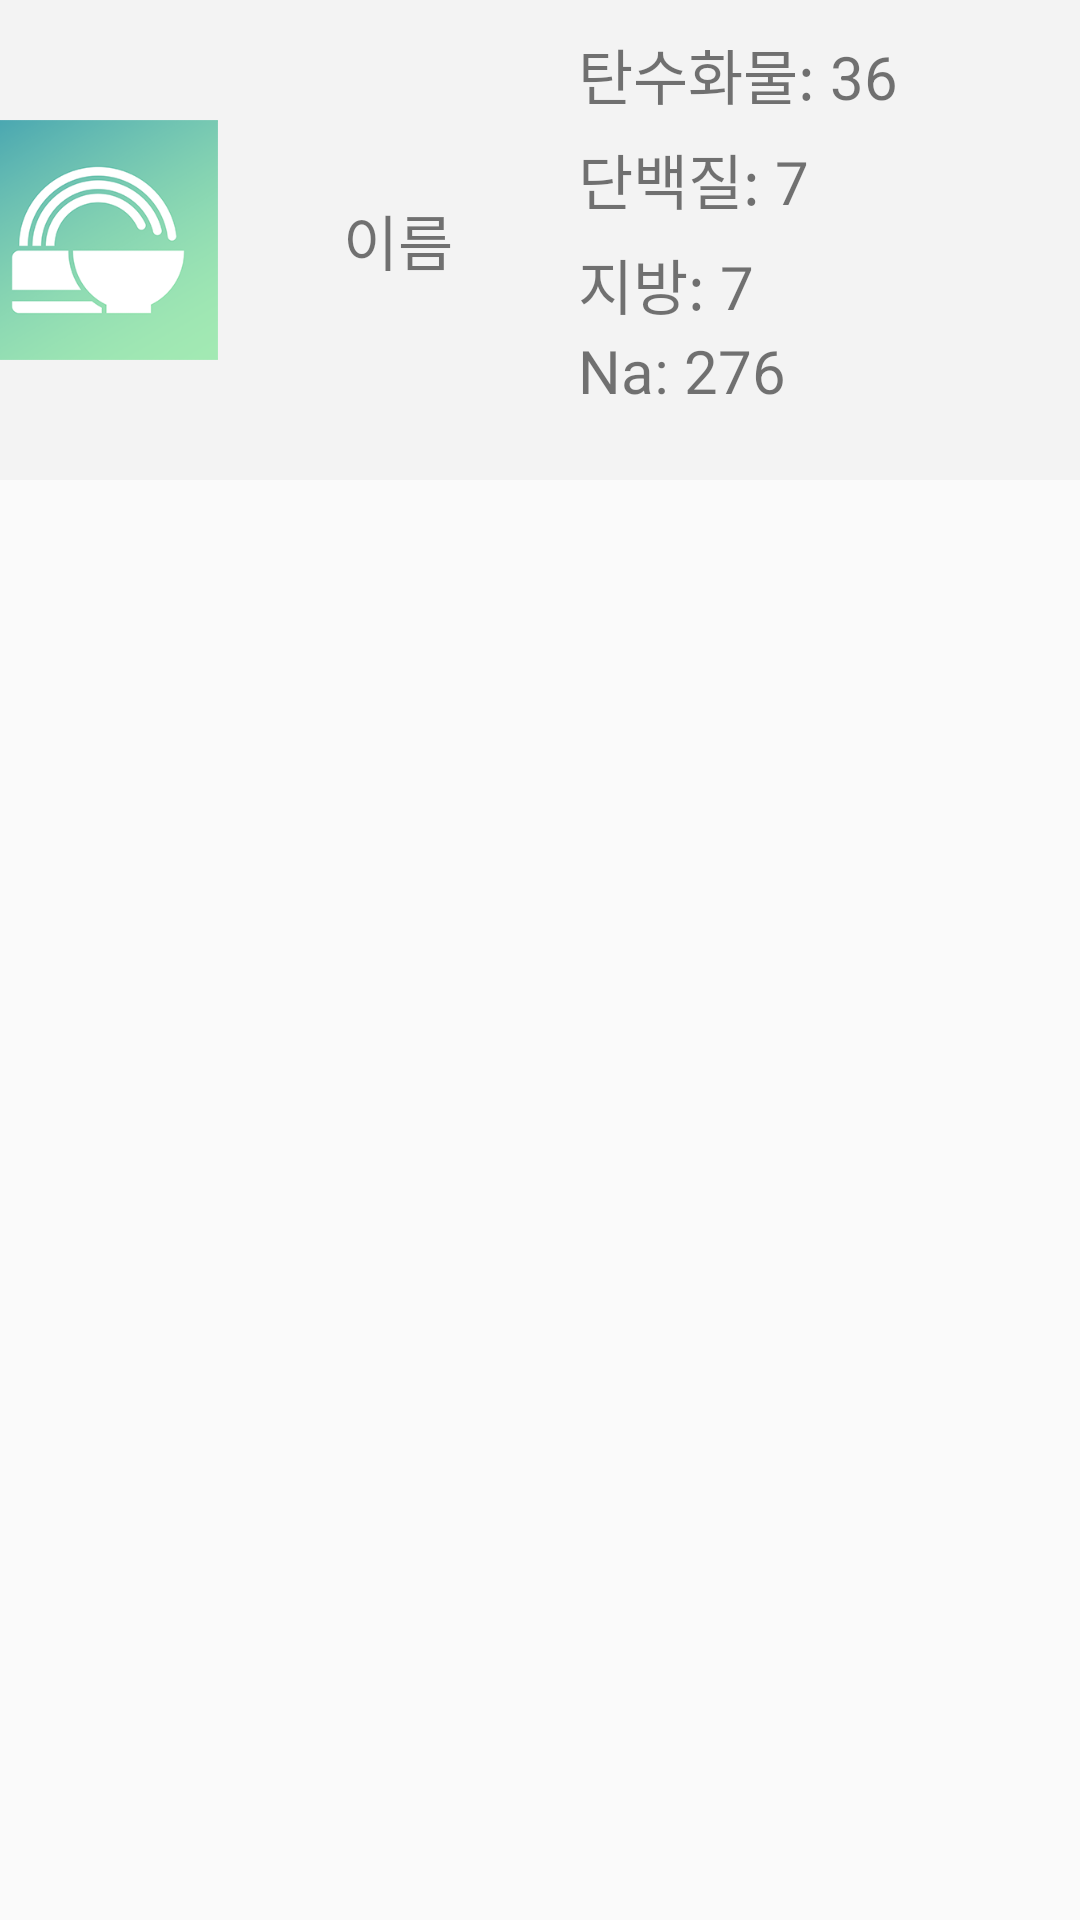

Locate icon controls on the screen. Image size 1080x1920, boxes as rect(x1, y1, x2, y2).
app: rect(0, 120, 218, 360)
